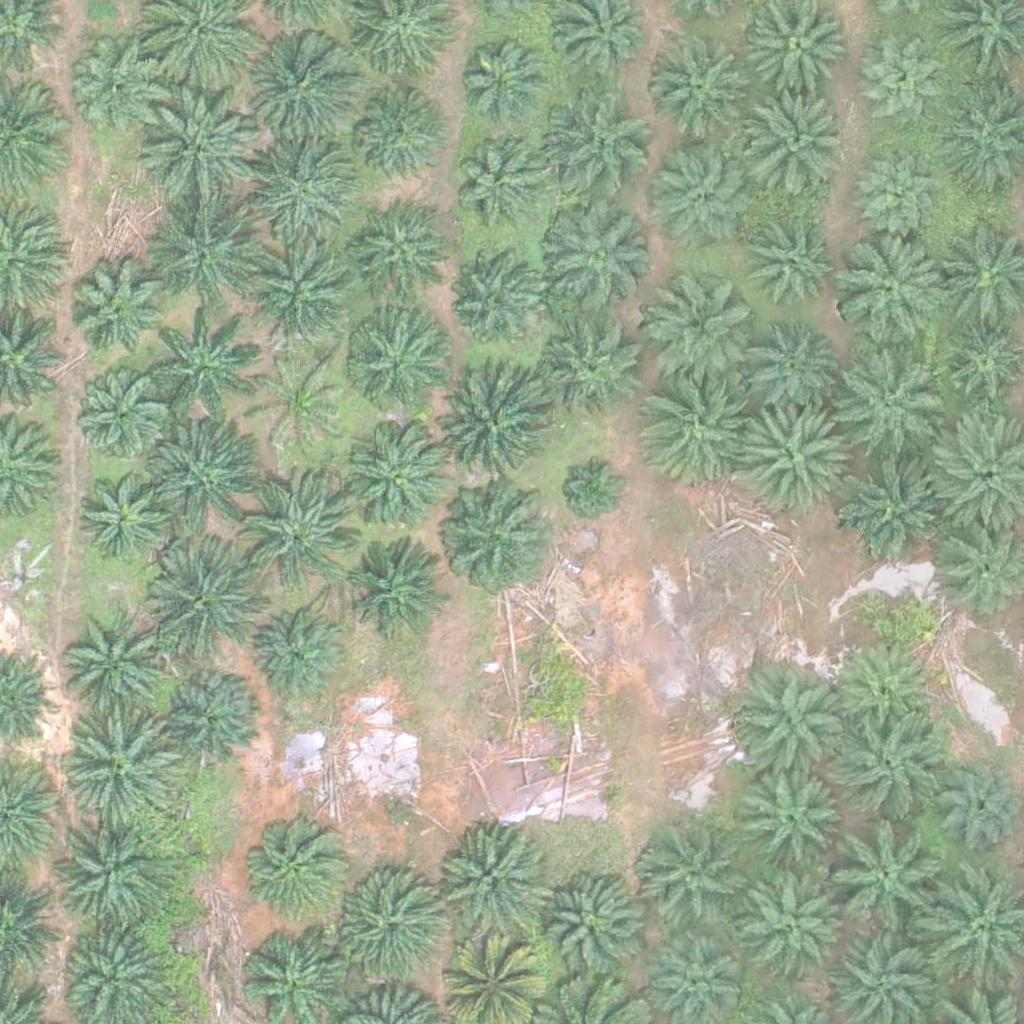Kelapa_Sawit: (149, 545, 262, 659), (52, 822, 165, 936), (828, 336, 941, 449), (841, 453, 954, 566), (735, 400, 848, 513), (640, 141, 753, 254), (640, 260, 753, 373), (632, 374, 745, 487), (830, 826, 943, 939), (735, 669, 848, 782), (532, 871, 645, 984), (537, 201, 650, 314), (436, 370, 549, 483), (150, 419, 263, 532), (140, 93, 253, 206), (831, 234, 943, 348), (641, 34, 753, 148), (344, 420, 456, 534), (245, 131, 357, 245), (246, 244, 358, 358), (239, 809, 351, 923), (253, 28, 365, 142), (744, 87, 856, 200), (836, 709, 948, 822), (738, 859, 850, 972), (632, 822, 744, 935), (435, 828, 547, 941), (325, 872, 437, 985), (544, 84, 656, 197), (438, 486, 550, 599), (242, 475, 354, 588), (147, 306, 259, 419), (151, 191, 263, 304), (63, 599, 175, 712), (67, 713, 179, 826), (742, 319, 842, 420), (746, 206, 846, 307), (835, 639, 935, 740), (743, 773, 843, 874), (546, 320, 646, 421), (443, 252, 543, 353), (252, 348, 352, 449), (159, 666, 259, 767), (69, 366, 169, 467), (73, 462, 173, 563), (345, 539, 445, 639), (349, 210, 449, 310), (342, 311, 442, 411), (248, 612, 348, 712), (66, 259, 166, 359), (69, 36, 169, 136), (854, 150, 942, 238), (454, 139, 542, 227), (351, 93, 439, 181), (457, 36, 545, 124), (857, 40, 944, 128), (556, 449, 631, 524)
